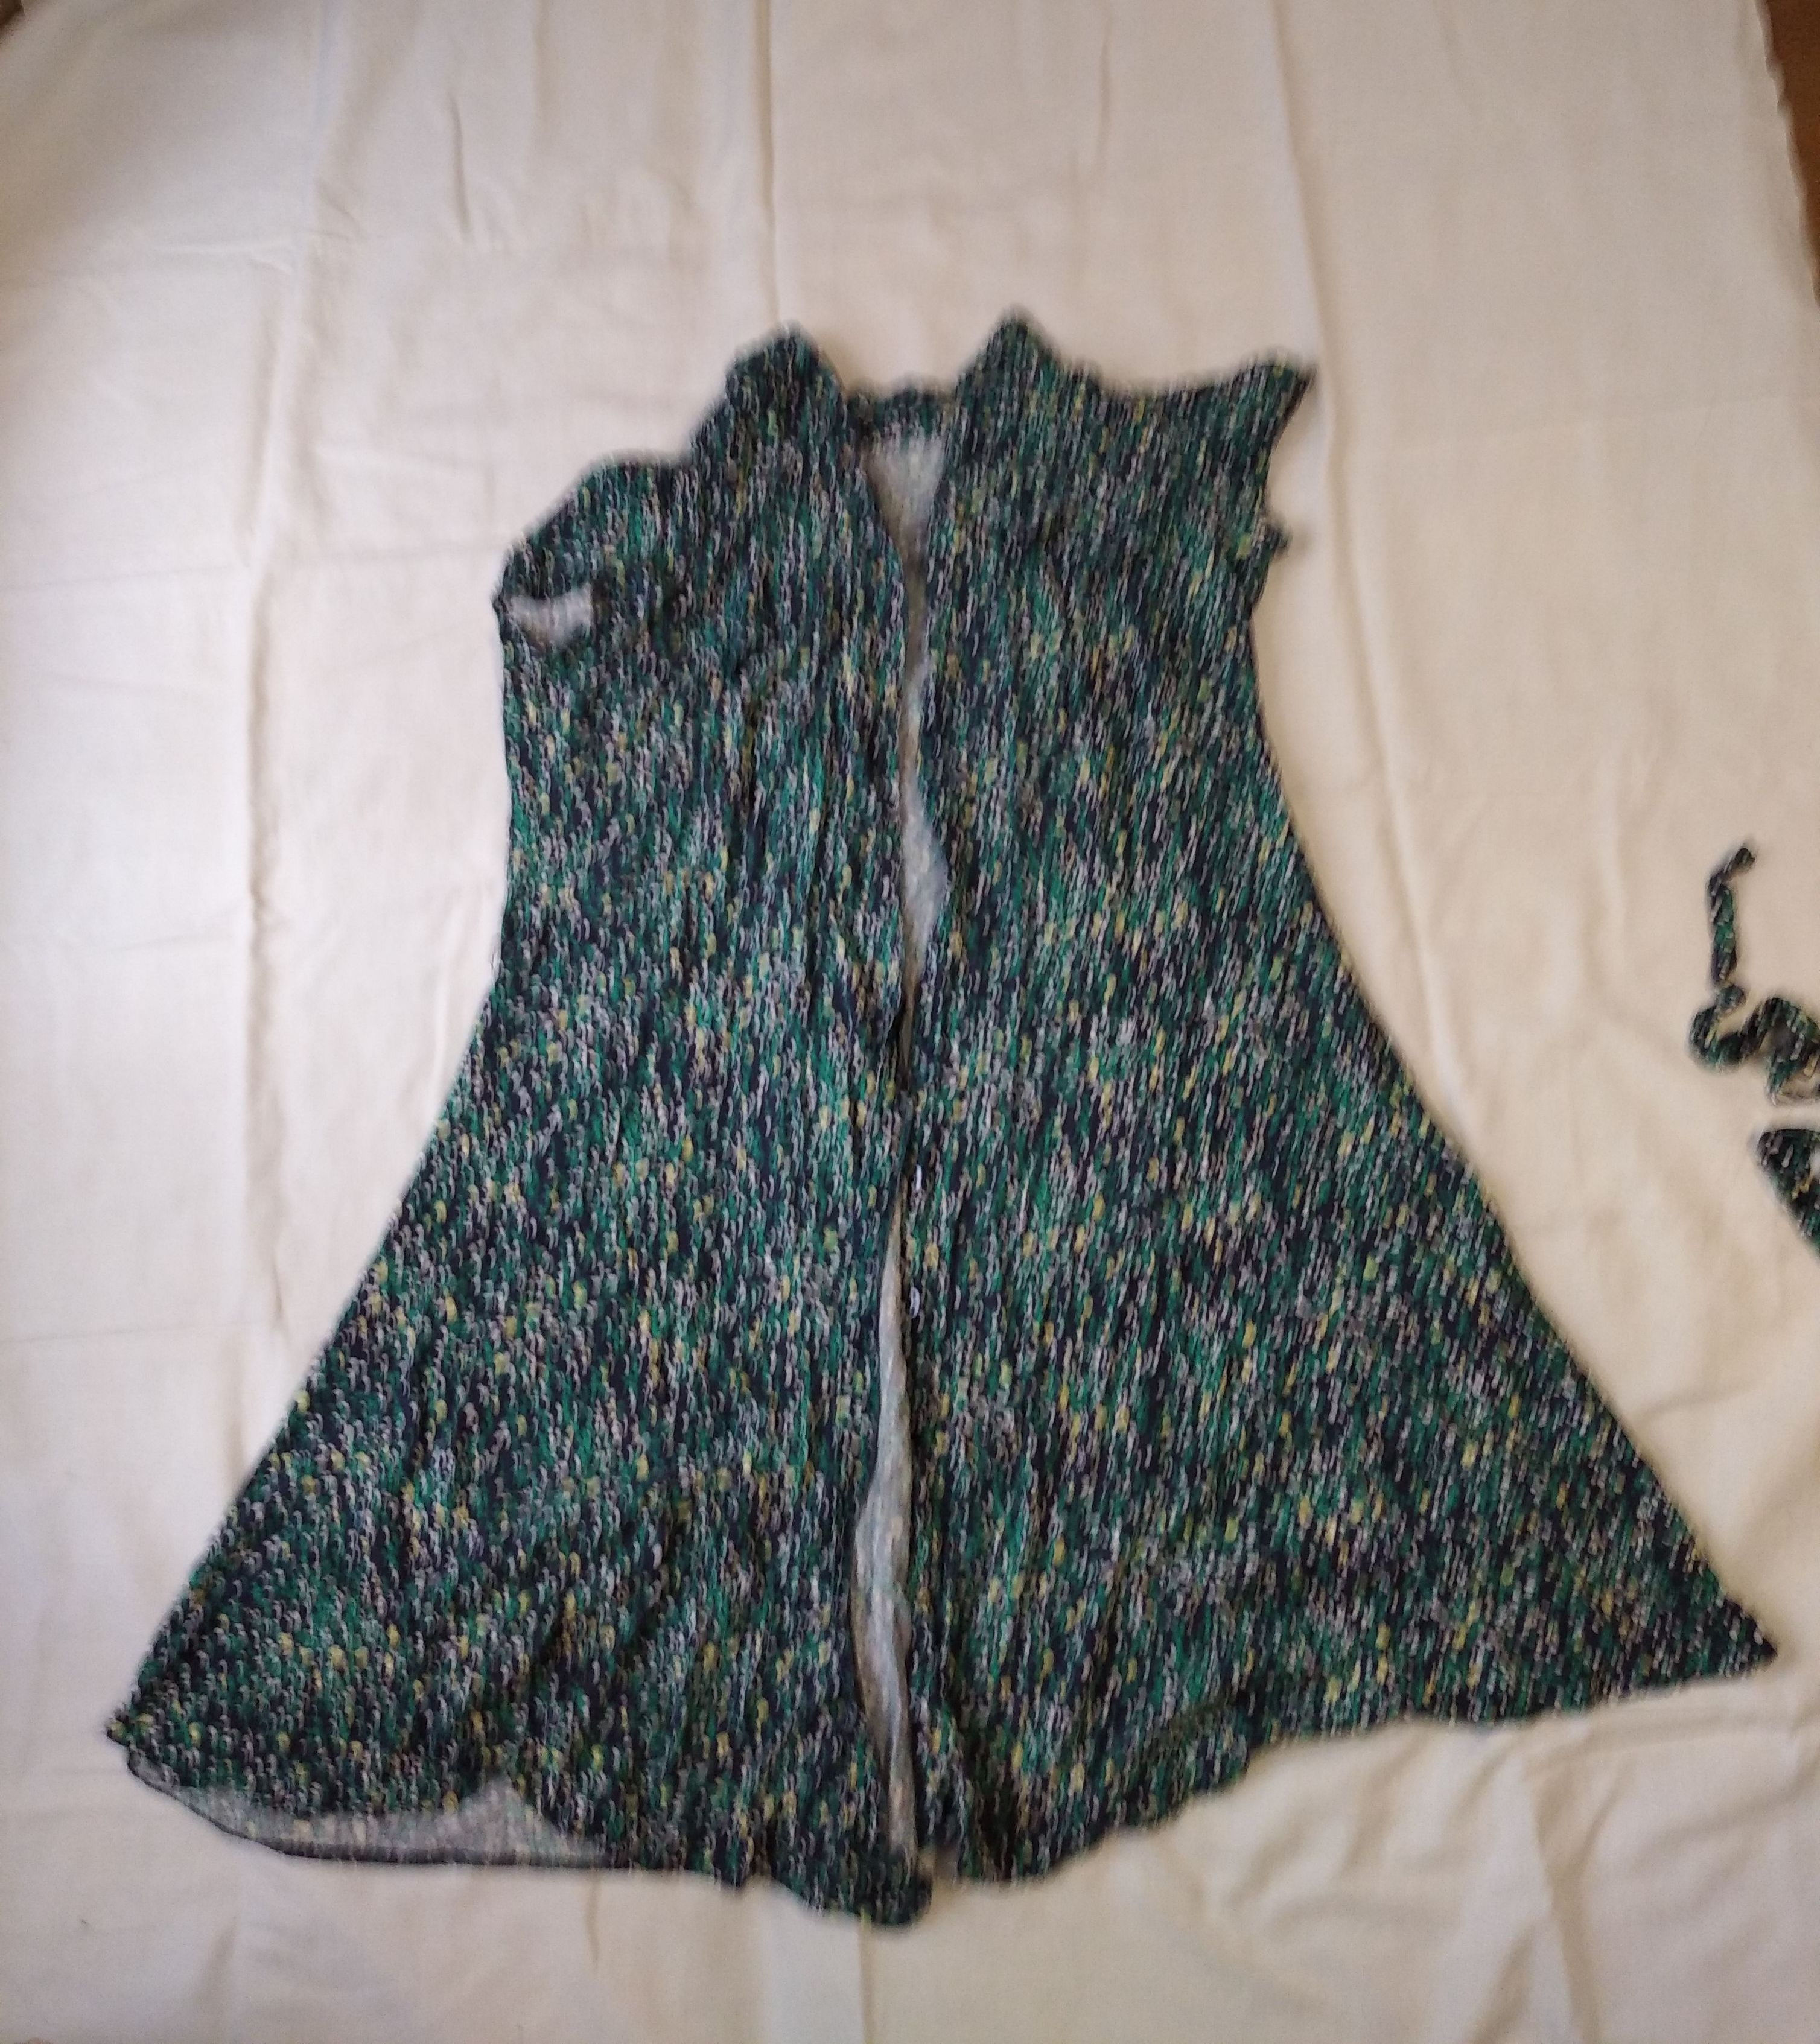clothes: (91, 307, 1773, 1893)
